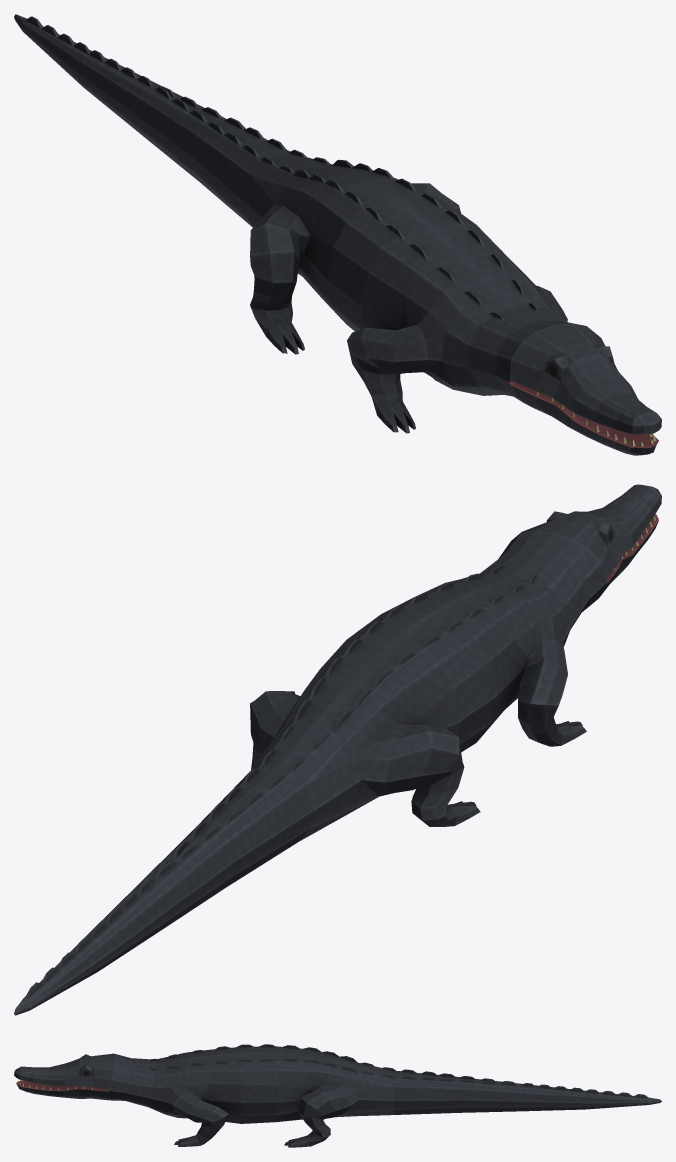
Rendered from buayamuara.obj.
3 views of the same model, one above another, from view 1: azimuth 30°, elevation 25°; view 2: azimuth 150°, elevation 25°; view 3: azimuth 270°, elevation 25° (orthographic). The views are drawn at different scales.
Visible parts, largest first — view 1: BlackCaiman_mesh; view 2: BlackCaiman_mesh; view 3: BlackCaiman_mesh.
Part boxes in pixels (<box>): BlackCaiman_mesh: <box>14,14,661,455</box>; BlackCaiman_mesh: <box>14,484,661,1015</box>; BlackCaiman_mesh: <box>14,1044,661,1147</box>.
Size of the model in its own units: 3.4 by 2.19 by 17.97.
Materials: 1 (1 with a texture image).
